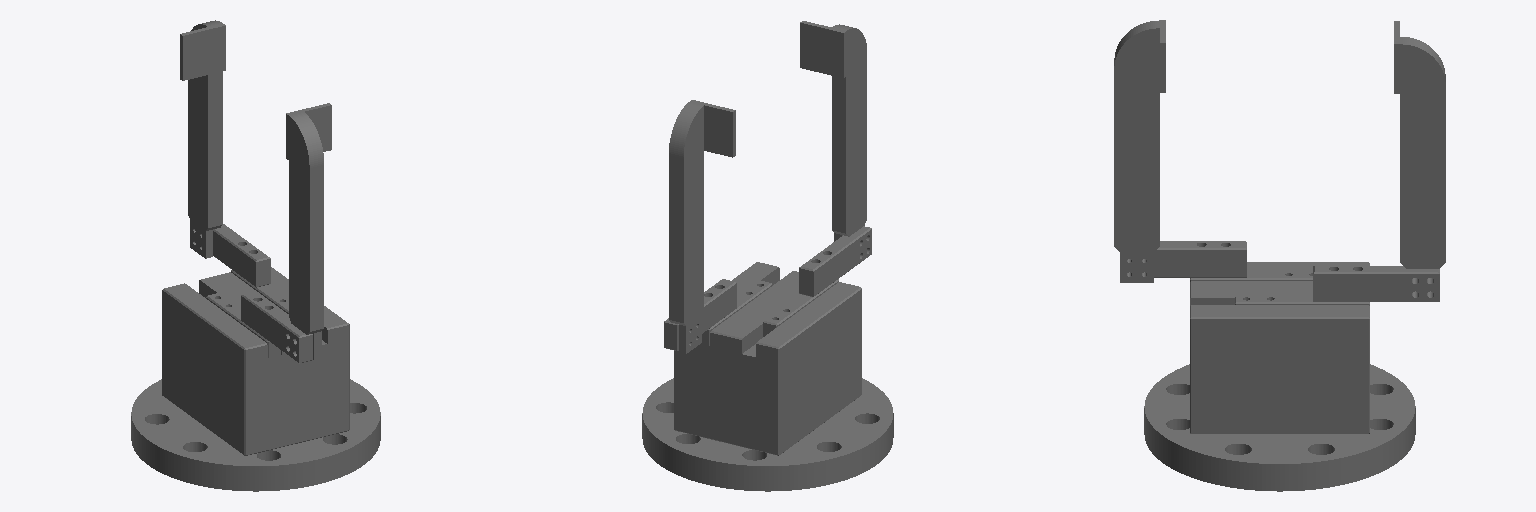
robot.urdf — custom_robots:
<?xml version="1.0" ?>
<robot name="custom_robots" version="1.0">
  <material name="black">
    <color rgba="0.0 0.0 0.0 1.0"/>
  </material>
  <material name="blue">
    <color rgba="0.0 0.0 0.8 1.0"/>
  </material>
  <material name="green">
    <color rgba="0.0 0.8 0.0 1.0"/>
  </material>
  <material name="grey_">
    <color rgba="0.2 0.2 0.2 1.0"/>
  </material>
  <material name="orange">
    <color rgba="1.0 0.423529411765 0.0392156862745 1.0"/>
  </material>
  <material name="brown">
    <color rgba="0.870588235294 0.811764705882 0.764705882353 1.0"/>
  </material>
  <material name="red">
    <color rgba="0.8 0.0 0.0 1.0"/>
  </material>
  <material name="white">
    <color rgba="1.0 1.0 1.0 1.0"/>
  </material>
  <material name="metal">
    <color rgba="0.76862745098 0.749019607843 0.729411764706 1.0"/>
  </material>
  <material name="metal_grey">
    <color rgba="0.501960784314 0.501960784314 0.501960784314 1.0"/>
  </material>
  <material name="metal_white">
    <color rgba="0.866666666667 0.866666666667 0.890196078431 1.0"/>
  </material>
  <link name="base_link"/>
  <joint name="indy0_joint_base_link" type="fixed">
    <origin rpy="0.0 -0.0 0.0" xyz="-0.0 -0.0 -0.077500000596"/>
    <parent link="indy0_link0"/>
    <child link="base_link"/>
  </joint>
  <link name="indy0_link0">
    <inertial>
      <origin rpy="0.0 0.0 0.0" xyz="0.0 0.0 0.0"/>
      <mass value="1.59306955"/>
      <inertia ixx="0.00572623" ixy="2.51e-06" ixz="-0.0001138" iyy="0.00558959" iyz="-1.4e-07" izz="0.00966674"/>
    </inertial>
    <visual>
      <origin rpy="0.0 -0.0 0.0" xyz="0.0 0.0 -0.077500000596"/>
      <geometry>
        <mesh filename="package://indy7_description/meshes/stl/Indy7_0.stl"/>
      </geometry>
      <material name="metal_grey"/>
    </visual>
    <collision>
      <origin rpy="-0.0 1.57079632359 0.0" xyz="-0.10000000149 0.0 -0.047499999404"/>
      <geometry>
        <cylinder length="0.2" radius="0.05"/>
      </geometry>
    </collision>
  </link>
  <link name="indy0_link1">
    <inertial>
      <origin rpy="0.0 0.0 0.0" xyz="0.0 0.0 0.0"/>
      <mass value="11.8030102"/>
      <inertia ixx="0.15418559" ixy="-2.35e-06" ixz="1.739e-05" iyy="0.12937017" iyz="-0.04854267" izz="0.05964415"/>
    </inertial>
    <visual>
      <origin rpy="-1.57079632679 -4.89658877681e-12 1.57079632679" xyz="0.222000002861 -5.53314501422e-13 -0.108999997377"/>
      <geometry>
        <mesh filename="package://indy7_description/meshes/stl/Indy7_1.stl"/>
      </geometry>
      <material name="metal_grey"/>
    </visual>
    <collision>
      <origin rpy="-1.57079632679 -4.89658877681e-12 1.57079632679" xyz="0.15000000596 -2.00760117081e-13 -0.108999997377"/>
      <geometry>
        <cylinder length="0.3" radius="0.1"/>
      </geometry>
    </collision>
  </link>
  <link name="indy0_link2">
    <inertial>
      <origin rpy="0.0 0.0 0.0" xyz="0.0 0.0 0.0"/>
      <mass value="7.99292141"/>
      <inertia ixx="0.2935698" ixy="-4e-07" ixz="1.441e-05" iyy="0.28094142" iyz="0.03727972" izz="0.03620609"/>
    </inertial>
    <visual>
      <origin rpy="0.0 -0.0 0.0" xyz="0.449999988079 0.0 0.0305000003427"/>
      <geometry>
        <mesh filename="package://indy7_description/meshes/stl/Indy7_2.stl"/>
      </geometry>
      <material name="metal_grey"/>
    </visual>
    <collision>
      <origin rpy="1.57079632679 -0.0 -1.57079632679" xyz="0.22499999404 0.0 0.120500005782"/>
      <geometry>
        <cylinder length="0.45" radius="0.073"/>
      </geometry>
    </collision>
    <collision>
      <origin rpy="0.0 -0.0 0.0" xyz="0.449999988079 0.0 0.0205000005662"/>
      <geometry>
        <cylinder length="0.2" radius="0.085"/>
      </geometry>
    </collision>
  </link>
  <link name="indy0_link3">
    <inertial>
      <origin rpy="0.0 0.0 0.0" xyz="0.0 0.0 0.0"/>
      <mass value="2.99134127"/>
      <inertia ixx="0.03424593" ixy="1.49e-06" ixz="7.24e-06" iyy="0.03406024" iyz="0.00186009" izz="0.00450477"/>
    </inertial>
    <visual>
      <origin rpy="1.57079632679 1.57079632679 0.0" xyz="1.30738920124e-12 -0.0750000029802 -0.266999989748"/>
      <geometry>
        <mesh filename="package://indy7_description/meshes/stl/Indy7_3.stl"/>
      </geometry>
      <material name="metal_grey"/>
    </visual>
    <collision>
      <origin rpy="1.57079632679 1.57079632679 0.0" xyz="1.30738920124e-12 -0.105000004172 -0.266999989748"/>
      <geometry>
        <cylinder length="0.2" radius="0.065"/>
      </geometry>
    </collision>
  </link>
  <link name="indy0_link4">
    <inertial>
      <origin rpy="0.0 0.0 0.0" xyz="0.0 0.0 0.0"/>
      <mass value="2.12317035"/>
      <inertia ixx="0.00670405" ixy="3.75e-06" ixz="1.5e-06" iyy="0.00279246" iyz="-0.00127967" izz="0.00619341"/>
    </inertial>
    <visual>
      <origin rpy="-1.57079632679 -4.89658877681e-12 1.57079632679" xyz="0.082999996841 1.51794294365e-13 -0.11400000006"/>
      <geometry>
        <mesh filename="package://indy7_description/meshes/stl/Indy7_4.stl"/>
      </geometry>
      <material name="metal_grey"/>
    </visual>
    <collision>
      <origin rpy="-1.57079632679 -4.89658877681e-12 1.57079632679" xyz="0.17499999702 -2.98691870933e-13 -0.11400000006"/>
      <geometry>
        <cylinder length="0.35" radius="0.06"/>
      </geometry>
    </collision>
  </link>
  <link name="indy0_link5">
    <inertial>
      <origin rpy="0.0 0.0 0.0" xyz="0.0 0.0 0.0"/>
      <mass value="2.28865091"/>
      <inertia ixx="0.00994891" ixy="1.4e-07" ixz="3.21e-06" iyy="0.00978189" iyz="-0.00093546" izz="0.00271492"/>
    </inertial>
    <visual>
      <origin rpy="1.57079632679 1.57079632679 0.0" xyz="8.2262690583e-13 0.0689999982715 -0.167999997735"/>
      <geometry>
        <mesh filename="package://indy7_description/meshes/stl/Indy7_5.stl"/>
      </geometry>
      <material name="metal_grey"/>
    </visual>
    <collision>
      <origin rpy="1.57079632679 1.57079632679 0.0" xyz="8.2262690583e-13 0.0914999991655 -0.167999997735"/>
      <geometry>
        <cylinder length="0.183" radius="0.055"/>
      </geometry>
    </collision>
  </link>
  <link name="indy0_link6">
    <inertial>
      <origin rpy="0.0 0.0 0.0" xyz="0.0 0.0 0.0"/>
      <mass value="0.40083918"/>
      <inertia ixx="0.00043534" ixy="1.3e-07" ixz="-2e-08" iyy="0.00044549" iyz="5.1e-07" izz="0.00059634"/>
    </inertial>
    <visual>
      <origin rpy="0.0 -0.0 0.0" xyz="0.0 0.0 -0.0599999986589"/>
      <geometry>
        <mesh filename="package://indy7_description/meshes/stl/Indy7_6.stl"/>
      </geometry>
      <material name="metal_grey"/>
    </visual>
    <collision>
      <origin rpy="0.0 -0.0 0.0" xyz="0.0 0.0 -0.097999997437"/>
      <geometry>
        <cylinder length="0.25" radius="0.06"/>
      </geometry>
    </collision>
  </link>
  <link name="indy0_tcp">
    <visual>
      <origin rpy="0.0 -0.0 1.570796" xyz="0.0 0.0 0.0"/>
      <geometry>
        <mesh filename="package://my_mesh/meshes/stl/indy_gripper_asm2_res.STL"/>
      </geometry>
      <material name="metal_grey"/>
    </visual>
    <collision>
      <origin rpy="0.0 -0.0 0.0" xyz="0.00499999988824 0.0439999997616 0.10000000149"/>
      <geometry>
        <cylinder length="0.08" radius="0.016"/>
      </geometry>
    </collision>
    <collision>
      <origin rpy="0.0 -0.0 0.0" xyz="-0.00499999988824 0.0439999997616 0.10000000149"/>
      <geometry>
        <cylinder length="0.08" radius="0.016"/>
      </geometry>
    </collision>
    <collision>
      <origin rpy="0.0 -0.0 0.0" xyz="0.00499999988824 -0.0439999997616 0.10000000149"/>
      <geometry>
        <cylinder length="0.08" radius="0.016"/>
      </geometry>
    </collision>
    <collision>
      <origin rpy="0.0 -0.0 0.0" xyz="-0.00499999988824 -0.0439999997616 0.10000000149"/>
      <geometry>
        <cylinder length="0.08" radius="0.016"/>
      </geometry>
    </collision>
  </link>
  <joint name="indy0_joint0" type="revolute">
    <origin rpy="-1.57079632679 -4.89658877681e-12 1.57079632679" xyz="0.222000002861 -5.53314501422e-13 -0.108999997377"/>
    <axis xyz="0.0 0.0 1.0"/>
    <parent link="indy0_link1"/>
    <child link="indy0_link0"/>
    <limit effort="3.14159265359" lower="-3.05432619099" upper="3.05432619099" velocity="1.308996939"/>
  </joint>
  <joint name="indy0_joint1" type="revolute">
    <origin rpy="0.0 -0.0 0.0" xyz="0.449999988079 -0.0 0.0305000003427"/>
    <axis xyz="0.0 0.0 1.0"/>
    <parent link="indy0_link2"/>
    <child link="indy0_link1"/>
    <limit effort="3.14159265359" lower="-3.05432619099" upper="3.05432619099" velocity="1.308996939"/>
  </joint>
  <joint name="indy0_joint2" type="revolute">
    <origin rpy="1.57079632679 1.57079632679 0.0" xyz="1.30738920124e-12 -0.0750000029802 -0.266999989748"/>
    <axis xyz="0.0 0.0 1.0"/>
    <parent link="indy0_link3"/>
    <child link="indy0_link2"/>
    <limit effort="3.14159265359" lower="-3.05432619099" upper="3.05432619099" velocity="1.308996939"/>
  </joint>
  <joint name="indy0_joint3" type="revolute">
    <origin rpy="-1.57079632679 -4.89658877681e-12 1.57079632679" xyz="0.082999996841 1.51794294365e-13 -0.11400000006"/>
    <axis xyz="0.0 0.0 1.0"/>
    <parent link="indy0_link4"/>
    <child link="indy0_link3"/>
    <limit effort="3.14159265359" lower="-3.05432619099" upper="3.05432619099" velocity="1.57079632679"/>
  </joint>
  <joint name="indy0_joint4" type="revolute">
    <origin rpy="1.57079632679 1.57079632679 0.0" xyz="8.2262690583e-13 0.0689999982715 -0.167999997735"/>
    <axis xyz="0.0 0.0 1.0"/>
    <parent link="indy0_link5"/>
    <child link="indy0_link4"/>
    <limit effort="3.14159265359" lower="-3.05432619099" upper="3.05432619099" velocity="1.57079632679"/>
  </joint>
  <joint name="indy0_joint5" type="revolute">
    <origin rpy="0.0 -0.0 0.0" xyz="-0.0 -0.0 -0.0599999986589"/>
    <axis xyz="0.0 0.0 1.0"/>
    <parent link="indy0_link6"/>
    <child link="indy0_link5"/>
    <limit effort="3.14159265359" lower="-3.75245789179" upper="3.75245789179" velocity="1.57079632679"/>
  </joint>
  <joint name="indy0_tcp" type="fixed">
    <origin rpy="0.0 -0.0 0.0" xyz="0.0 0.0 0.0"/>
    <parent link="indy0_tcp"/>
    <child link="indy0_link6"/>
  </joint>
  <transmission name="indy0_tran0">
    <type>transmission_interface/SimpleTransmission</type>
    <joint name="indy0_joint0">
      <hardwareInterface>PositionJointInterface</hardwareInterface>
    </joint>
    <actuator name="indy0_motor0">
      <mechanicalReduction>1.0</mechanicalReduction>
    </actuator>
  </transmission>
  <transmission name="indy0_tran1">
    <type>transmission_interface/SimpleTransmission</type>
    <joint name="indy0_joint1">
      <hardwareInterface>PositionJointInterface</hardwareInterface>
    </joint>
    <actuator name="indy0_motor1">
      <mechanicalReduction>1.0</mechanicalReduction>
    </actuator>
  </transmission>
  <transmission name="indy0_tran2">
    <type>transmission_interface/SimpleTransmission</type>
    <joint name="indy0_joint2">
      <hardwareInterface>PositionJointInterface</hardwareInterface>
    </joint>
    <actuator name="indy0_motor2">
      <mechanicalReduction>1.0</mechanicalReduction>
    </actuator>
  </transmission>
  <transmission name="indy0_tran3">
    <type>transmission_interface/SimpleTransmission</type>
    <joint name="indy0_joint3">
      <hardwareInterface>PositionJointInterface</hardwareInterface>
    </joint>
    <actuator name="indy0_motor3">
      <mechanicalReduction>1.0</mechanicalReduction>
    </actuator>
  </transmission>
  <transmission name="indy0_tran4">
    <type>transmission_interface/SimpleTransmission</type>
    <joint name="indy0_joint4">
      <hardwareInterface>PositionJointInterface</hardwareInterface>
    </joint>
    <actuator name="indy0_motor4">
      <mechanicalReduction>1.0</mechanicalReduction>
    </actuator>
  </transmission>
  <transmission name="indy0_tran5">
    <type>transmission_interface/SimpleTransmission</type>
    <joint name="indy0_joint5">
      <hardwareInterface>PositionJointInterface</hardwareInterface>
    </joint>
    <actuator name="indy0_motor5">
      <mechanicalReduction>1.0</mechanicalReduction>
    </actuator>
  </transmission>
  <joint name="panda1_joint_base_link" type="fixed">
    <origin rpy="0.0 0.0 2.67668032996" xyz="1.13134251381 0.991934190815 0.949680852372"/>
    <parent link="base_link"/>
    <child link="panda1_link0"/>
  </joint>
  <link name="panda1_link0">
    <visual>
      <geometry>
        <mesh filename="package://franka_description/meshes/visual/link0.dae"/>
      </geometry>
    </visual>
    <collision>
      <origin rpy="3.14159265 -1.37340077 3.14159265" xyz="-0.03 0.0 0.03"/>
      <geometry>
        <cylinder length="0.102" radius="0.1"/>
      </geometry>
    </collision>
    <collision>
      <origin rpy="1.57079633 0.0 0.0" xyz="-0.05 0.0 0.03"/>
      <geometry>
        <cylinder length="0.3" radius="0.05"/>
      </geometry>
    </collision>
  </link>
  <link name="panda1_link1">
    <visual>
      <geometry>
        <mesh filename="package://franka_description/meshes/visual/link1.dae"/>
      </geometry>
    </visual>
    <collision>
      <origin rpy="-2.71183037 0.0 0.0" xyz="0.0 -0.0275 -0.075"/>
      <geometry>
        <cylinder length="0.132" radius="0.11"/>
      </geometry>
    </collision>
  </link>
  <joint name="panda1_joint1" type="revolute">
    <origin rpy="0.0 0.0 0.0" xyz="0.0 0.0 0.333"/>
    <axis xyz="0.0 0.0 1.0"/>
    <parent link="panda1_link0"/>
    <child link="panda1_link1"/>
    <limit effort="3.14159265359" lower="-2.75" upper="2.75" velocity="1.308996939"/>
    <safety_controller k_position="100.0" k_velocity="40.0" soft_lower_limit="-2.8973" soft_upper_limit="2.8973"/>
  </joint>
  <link name="panda1_link2">
    <visual>
      <geometry>
        <mesh filename="package://franka_description/meshes/visual/link2.dae"/>
      </geometry>
    </visual>
    <collision>
      <origin rpy="1.98320677 -0.0 0.0" xyz="0.0 -0.08 0.035"/>
      <geometry>
        <cylinder length="0.175" radius="0.09"/>
      </geometry>
    </collision>
  </link>
  <joint name="panda1_joint2" type="revolute">
    <origin rpy="-1.57079632679 0.0 0.0" xyz="0.0 0.0 0.0"/>
    <axis xyz="0.0 0.0 1.0"/>
    <parent link="panda1_link1"/>
    <child link="panda1_link2"/>
    <limit effort="3.14159265359" lower="-1.7" upper="1.7" velocity="1.308996939"/>
    <safety_controller k_position="100.0" k_velocity="40.0" soft_lower_limit="-1.7628" soft_upper_limit="1.7628"/>
  </joint>
  <link name="panda1_link3">
    <visual>
      <geometry>
        <mesh filename="package://franka_description/meshes/visual/link3.dae"/>
      </geometry>
    </visual>
    <collision>
      <origin rpy="2.48451772 -0.7355124 -1.69290814" xyz="0.04 0.027 -0.035"/>
      <geometry>
        <cylinder length="0.12" radius="0.09"/>
      </geometry>
    </collision>
  </link>
  <joint name="panda1_joint3" type="revolute">
    <origin rpy="1.57079632679 0.0 0.0" xyz="0.0 -0.316 0.0"/>
    <axis xyz="0.0 0.0 1.0"/>
    <parent link="panda1_link2"/>
    <child link="panda1_link3"/>
    <limit effort="3.14159265359" lower="-2.75" upper="2.75" velocity="1.308996939"/>
    <safety_controller k_position="100.0" k_velocity="40.0" soft_lower_limit="-2.8973" soft_upper_limit="2.8973"/>
  </joint>
  <link name="panda1_link4">
    <visual>
      <geometry>
        <mesh filename="package://franka_description/meshes/visual/link4.dae"/>
      </geometry>
    </visual>
    <collision>
      <origin rpy="-2.0064792 -0.71456939 1.05945848" xyz="-0.0555 0.058 0.027"/>
      <geometry>
        <cylinder length="0.17" radius="0.08"/>
      </geometry>
    </collision>
  </link>
  <joint name="panda1_joint4" type="revolute">
    <origin rpy="1.57079632679 0.0 0.0" xyz="0.0825 0.0 0.0"/>
    <axis xyz="0.0 0.0 1.0"/>
    <parent link="panda1_link3"/>
    <child link="panda1_link4"/>
    <limit effort="3.14159265359" lower="-2.9" upper="-0.1" velocity="1.308996939"/>
    <safety_controller k_position="100.0" k_velocity="40.0" soft_lower_limit="-3.0718" soft_upper_limit="-0.0698"/>
  </joint>
  <link name="panda1_link5">
    <visual>
      <geometry>
        <mesh filename="package://franka_description/meshes/visual/link5.dae"/>
      </geometry>
    </visual>
    <collision>
      <origin rpy="2.87423726 -0.0 0.0" xyz="0.0 0.0315 -0.115"/>
      <geometry>
        <cylinder length="0.238" radius="0.08"/>
      </geometry>
    </collision>
  </link>
  <joint name="panda1_joint5" type="revolute">
    <origin rpy="-1.57079632679 0.0 0.0" xyz="-0.0825 0.384 0.0"/>
    <axis xyz="0.0 0.0 1.0"/>
    <parent link="panda1_link4"/>
    <child link="panda1_link5"/>
    <limit effort="3.14159265359" lower="-2.75" upper="2.75" velocity="1.57079632679"/>
    <safety_controller k_position="100.0" k_velocity="40.0" soft_lower_limit="-2.8973" soft_upper_limit="2.8973"/>
  </joint>
  <link name="panda1_link6">
    <visual>
      <geometry>
        <mesh filename="package://franka_description/meshes/visual/link6.dae"/>
      </geometry>
    </visual>
    <collision>
      <origin rpy="-0.0 -1.57079633 0.0" xyz="0.035 0.0 0.0"/>
      <geometry>
        <cylinder length="0.09" radius="0.065"/>
      </geometry>
    </collision>
    <collision>
      <origin rpy="1.57079633 0.0 0.0" xyz="0.09 -0.01 0.0"/>
      <geometry>
        <cylinder length="0.13" radius="0.05"/>
      </geometry>
    </collision>
    <collision>
      <origin rpy="0.2 1.57079633 0.0" xyz="0.085 0.05 0.0"/>
      <geometry>
        <cylinder length="0.08" radius="0.04"/>
      </geometry>
    </collision>
  </link>
  <joint name="panda1_joint6" type="revolute">
    <origin rpy="1.57079632679 0.0 0.0" xyz="0.0 0.0 0.0"/>
    <axis xyz="0.0 0.0 1.0"/>
    <parent link="panda1_link5"/>
    <child link="panda1_link6"/>
    <limit effort="3.14159265359" lower="0.1" upper="3.6" velocity="1.57079632679"/>
    <safety_controller k_position="100.0" k_velocity="40.0" soft_lower_limit="-0.0175" soft_upper_limit="3.7525"/>
  </joint>
  <link name="panda1_link7">
    <visual>
      <geometry>
        <mesh filename="package://franka_description/meshes/visual/link7.dae"/>
      </geometry>
    </visual>
  </link>
  <joint name="panda1_joint7" type="revolute">
    <origin rpy="1.57079632679 0.0 0.0" xyz="0.088 0.0 0.0"/>
    <axis xyz="0.0 0.0 1.0"/>
    <parent link="panda1_link6"/>
    <child link="panda1_link7"/>
    <limit effort="3.14159265359" lower="-2.75" upper="2.75" velocity="1.57079632679"/>
    <safety_controller k_position="100.0" k_velocity="40.0" soft_lower_limit="-2.8973" soft_upper_limit="2.8973"/>
  </joint>
  <link name="panda1_link8"/>
  <joint name="panda1_joint8" type="fixed">
    <origin rpy="0.0 0.0 0.0" xyz="0.0 0.0 0.107"/>
    <axis xyz="0.0 0.0 0.0"/>
    <parent link="panda1_link7"/>
    <child link="panda1_link8"/>
  </joint>
  <joint name="panda1_hand_joint" type="fixed">
    <origin rpy="0.0 0.0 -0.785398163397" xyz="0.0 0.0 0.0"/>
    <parent link="panda1_link8"/>
    <child link="panda1_hand"/>
  </joint>
  <link name="panda1_hand">
    <visual>
      <geometry>
        <mesh filename="package://franka_description/meshes/visual/hand.dae"/>
      </geometry>
    </visual>
    <collision>
      <origin rpy="1.57079633 0.0 0.0" xyz="0.0 0.0 0.03"/>
      <geometry>
        <cylinder length="0.16" radius="0.045"/>
      </geometry>
    </collision>
    <collision>
      <origin rpy="0.0 1.57079633 0.0" xyz="0.0 0.07 -0.02"/>
      <geometry>
        <cylinder length="0.055" radius="0.02"/>
      </geometry>
    </collision>
    <collision>
      <origin rpy="1.57079633 0.0 0.0" xyz="0.0 -0.07 -0.02"/>
      <geometry>
        <cylinder length="0.05" radius="0.01"/>
      </geometry>
    </collision>
  </link>
  <link name="panda1_leftfinger">
    <visual>
      <geometry>
        <mesh filename="package://franka_description/meshes/visual/finger.dae"/>
      </geometry>
    </visual>
    <collision>
      <origin rpy="-2.73268482 0.0 0.0" xyz="0.0 0.0135 0.035"/>
      <geometry>
        <cylinder length="0.0325" radius="0.018"/>
      </geometry>
    </collision>
  </link>
  <link name="panda1_rightfinger">
    <visual>
      <origin rpy="0.0 0.0 3.14159265359" xyz="0.0 0.0 0.0"/>
      <geometry>
        <mesh filename="package://franka_description/meshes/visual/finger.dae"/>
      </geometry>
    </visual>
    <collision>
      <origin rpy="-2.73268482 0.0 -3.14159265" xyz="0.0 -0.0135 0.035"/>
      <geometry>
        <cylinder length="0.0325" radius="0.018"/>
      </geometry>
    </collision>
  </link>
  <joint name="panda1_finger_joint1" type="fixed">
    <origin rpy="0.0 0.0 0.0" xyz="0.0 0.04 0.0584"/>
    <parent link="panda1_hand"/>
    <child link="panda1_leftfinger"/>
  </joint>
  <joint name="panda1_finger_joint2" type="fixed">
    <origin rpy="0.0 0.0 0.0" xyz="0.0 -0.04 0.0584"/>
    <parent link="panda1_hand"/>
    <child link="panda1_rightfinger"/>
    <mimic joint="panda1_finger_joint1"/>
  </joint>
</robot>

--- What the picture shows (computed from the rendered views, not written in the file) ---
3 views of the same robot in one strip: view 1: azimuth 30°, elevation 25°; view 2: azimuth 150°, elevation 25°; view 3: azimuth 270°, elevation 25° (orthographic).
Robot: custom_robots — 21 links, 20 joints (13 revolute, 7 fixed); root link indy0_tcp; default pose: joints at zero except 2 at the middle of their limits (panda1_joint4 = -1.5, panda1_joint6 = 1.85).
Visible links, largest first — view 1: indy0_tcp; view 2: indy0_tcp; view 3: indy0_tcp.
Boxes of the visible links, x1,y1,x2,y2 form: indy0_tcp: (131, 20, 380, 491); indy0_tcp: (642, 21, 893, 491); indy0_tcp: (1114, 20, 1445, 491).
Bounding box of the posed robot: 0.09 × 0.11 × 0.1472 m (x, y, z).
1 mesh visuals loaded from 18 distinct referenced files (1 binary STL); not drawn: 18 (reference not matched to a file when rendering).